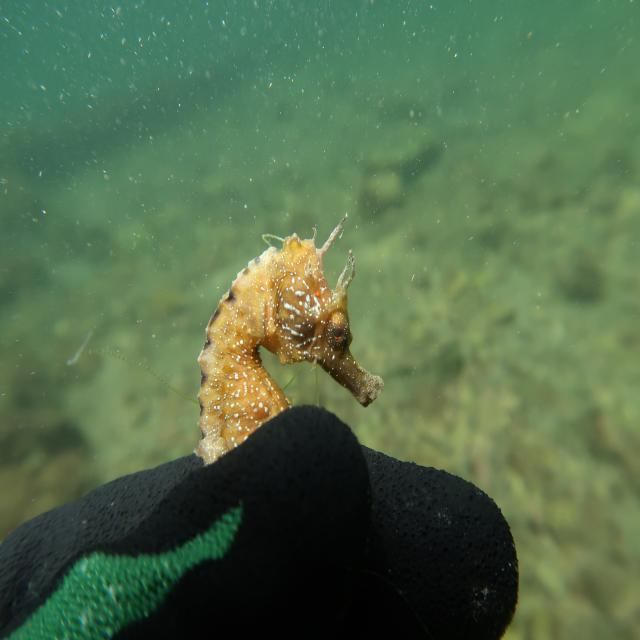Guttu: (267, 225, 387, 413)
